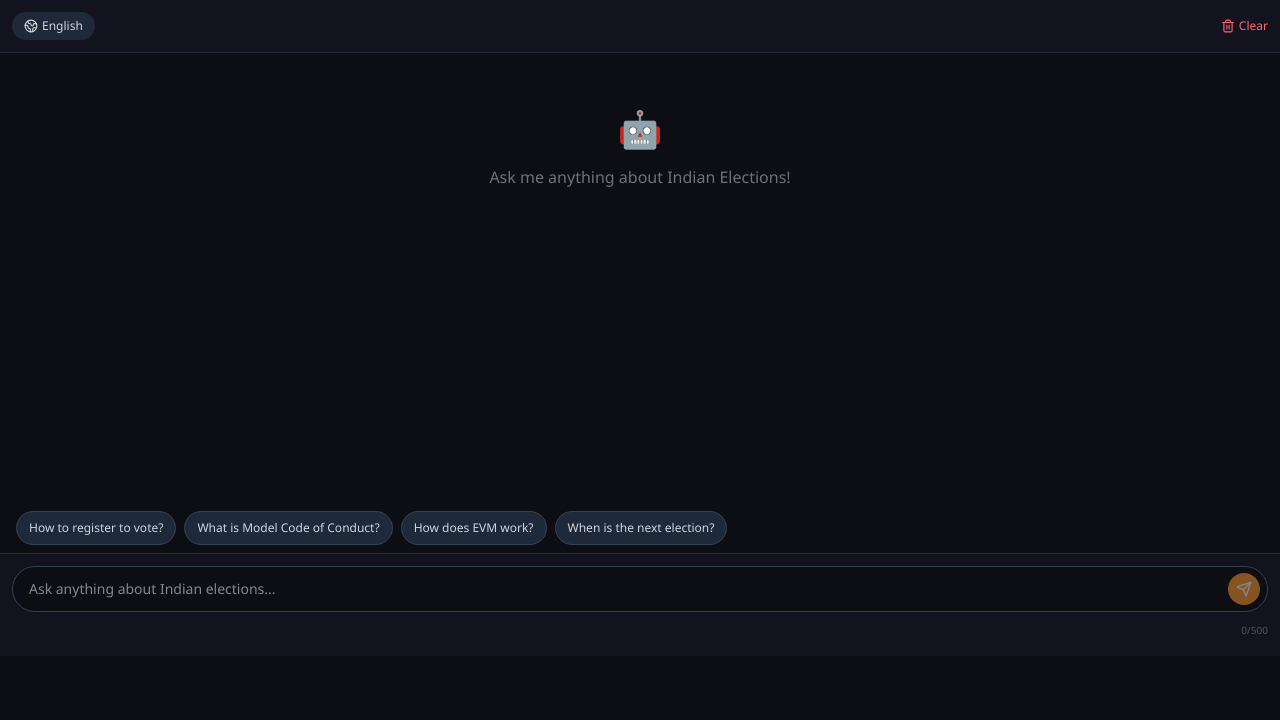
Test: Full Chat Flow Integration › type message → sanitized → send button activates
Type "What is EVM?" into the field named "chat input" at (640, 589), box [12,566,1268,612]
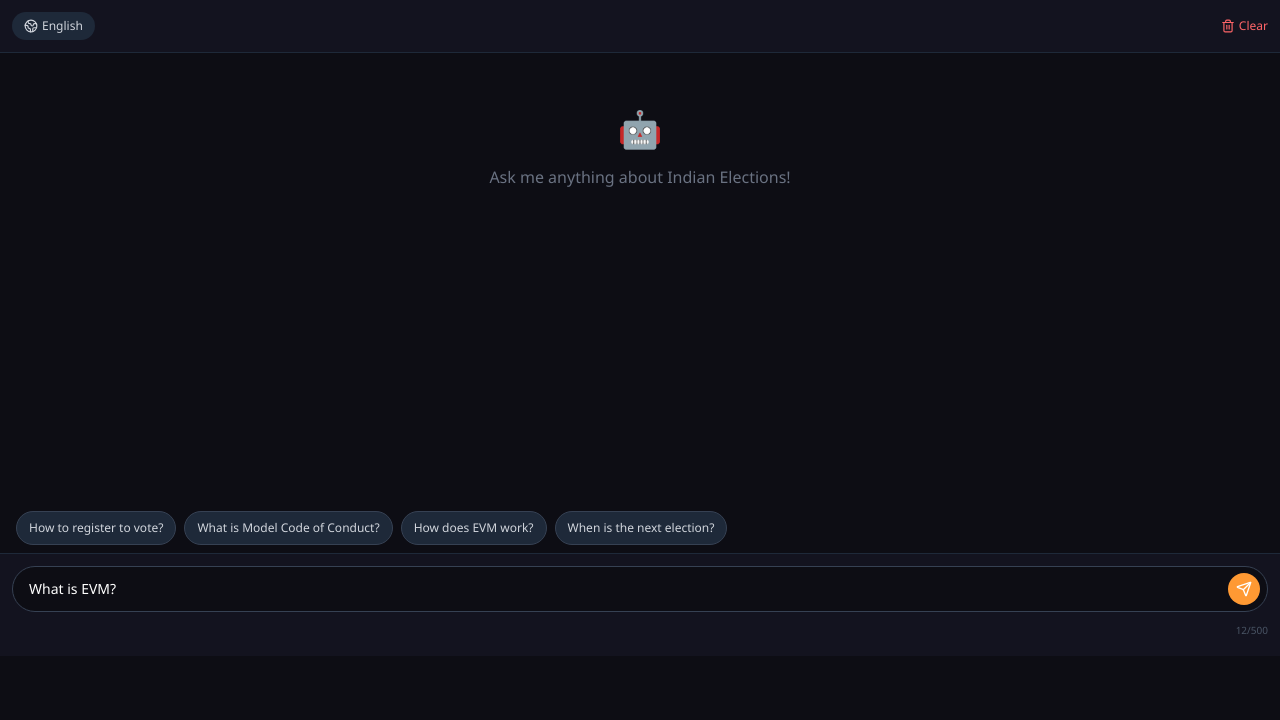
Expected: the button named "send message" is enabled, [1228,573,1260,605]
